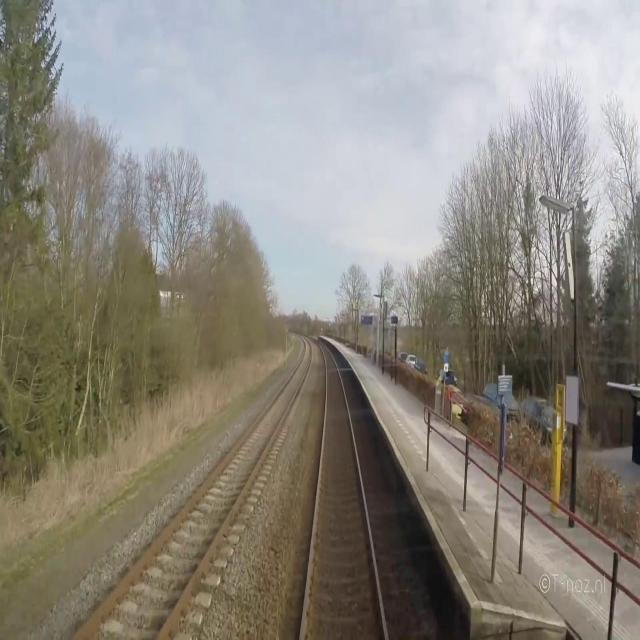rail-track: (75, 342, 309, 639), (304, 344, 384, 639)
